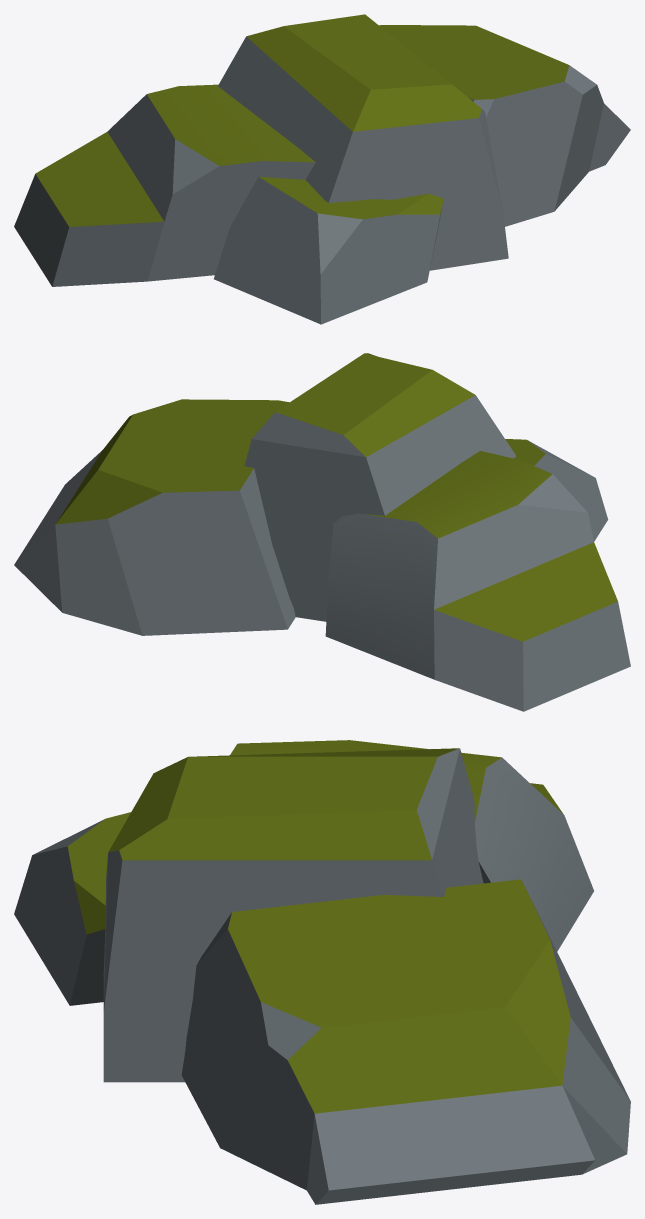
Rendered from GrassRocks.fbx.
3 renders of one model, top to bottom at view 1: azimuth 30°, elevation 25°; view 2: azimuth 150°, elevation 25°; view 3: azimuth 270°, elevation 25°, orthographic. The views are drawn at different scales.
Parts seen in each view (by area): view 1: Rocks; view 2: Rocks; view 3: Rocks.
Boxes of the visible parts, left/top/right/bottom form: Rocks: left=14, top=14, right=630, bottom=324; Rocks: left=14, top=353, right=630, bottom=711; Rocks: left=14, top=740, right=630, bottom=1204.
Bounding box in the file's own units: 230 × 70.38 × 152.
